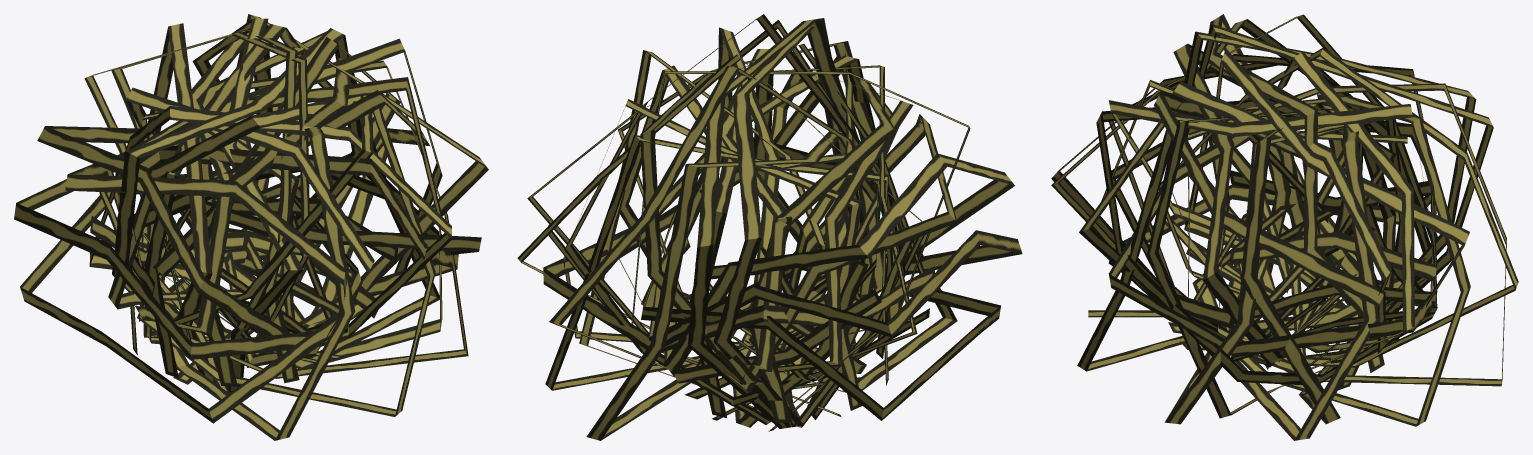
File: Virevoltant.fbx
The picture shows the model from 3 angles, left to right: view 1: azimuth 30°, elevation 25°; view 2: azimuth 150°, elevation 25°; view 3: azimuth 270°, elevation 25°; orthographic projection. The views are drawn at different scales.
Visible parts, largest first — view 1: Virevoltant; view 2: Virevoltant; view 3: Virevoltant.
Boxes of the visible parts, x1=… form: Virevoltant: x1=14, y1=14, x2=488, y2=440; Virevoltant: x1=517, y1=14, x2=1022, y2=440; Virevoltant: x1=1051, y1=14, x2=1518, y2=440.
Size of the model in its own units: 1.97 by 1.78 by 2.12.
